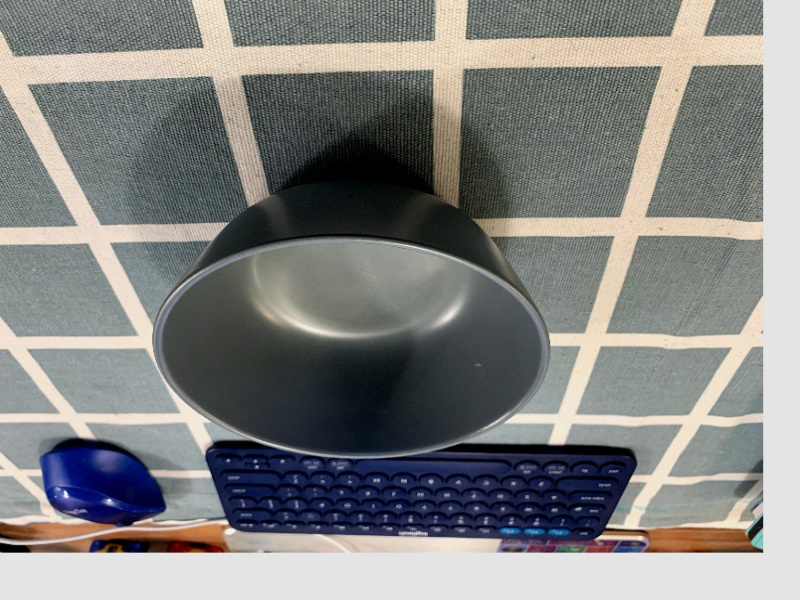bowl_big: (143, 172, 556, 462)
